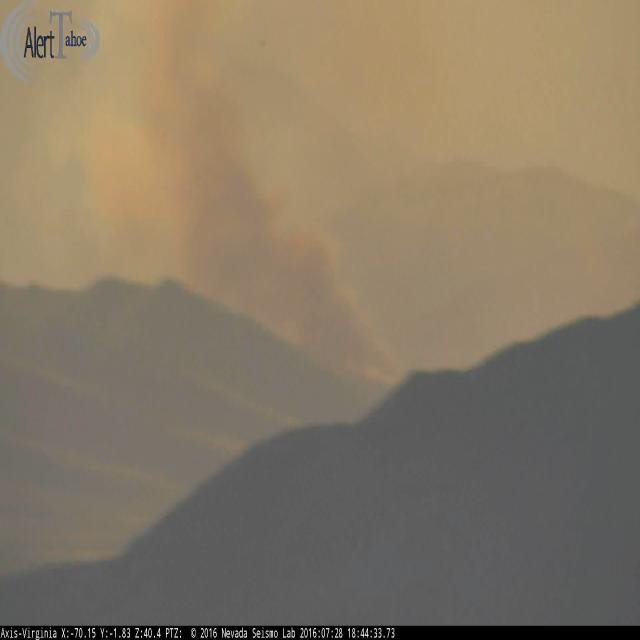smoke: (151, 41, 402, 390)
